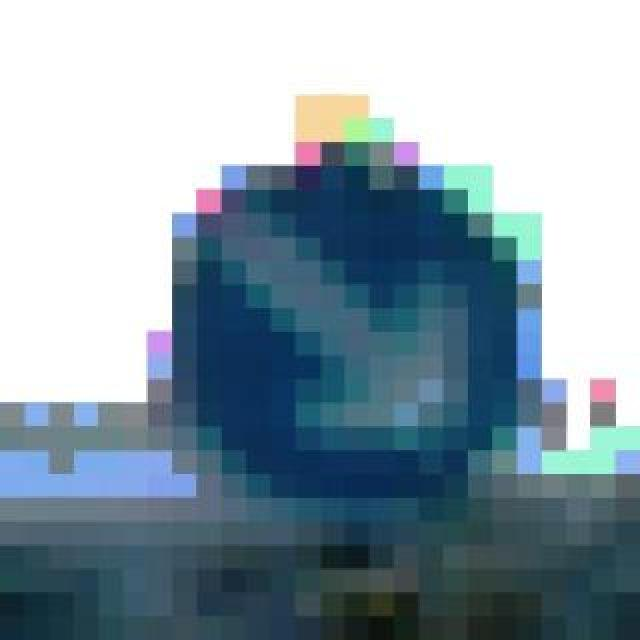keep right: (148, 118, 516, 522)
